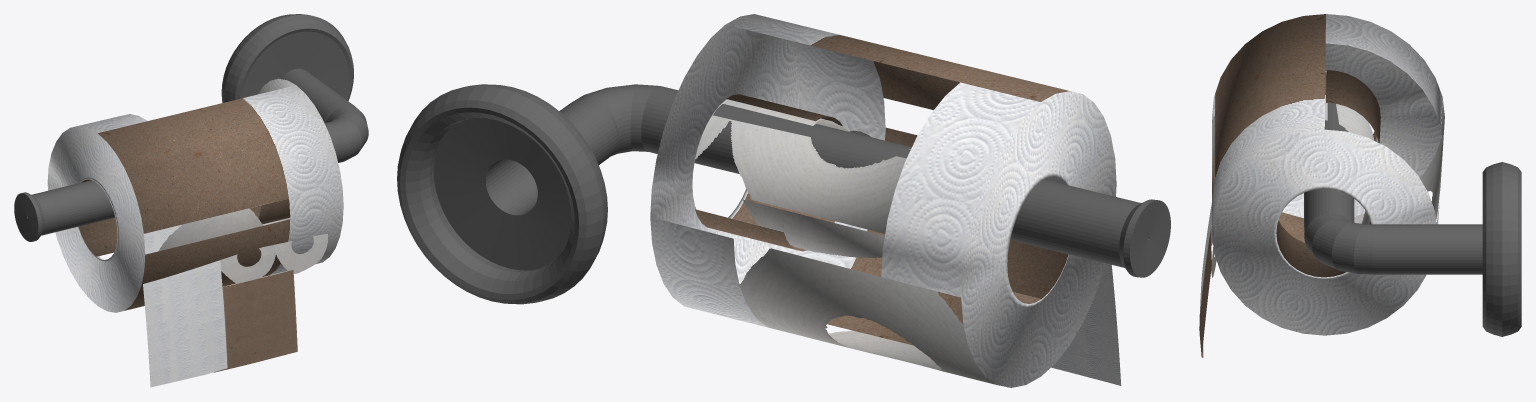
Rendered from Toilet Paper NEW.fbx.
The picture shows the model from 3 angles, left to right: view 1: azimuth 30°, elevation 25°; view 2: azimuth 150°, elevation 25°; view 3: azimuth 270°, elevation 25°; orthographic projection. The views are drawn at different scales.
Parts seen in each view (by area): view 1: Toilet Paper, Hanging Toilet Paper, ToiletRoll Holder; view 2: Toilet Paper, ToiletRoll Holder, Hanging Toilet Paper; view 3: Toilet Paper, ToiletRoll Holder, Hanging Toilet Paper.
Part boxes in pixels (box(x1,y1,x2,y2)): Toilet Paper: box(47, 78, 343, 312); Hanging Toilet Paper: box(143, 225, 327, 387); ToiletRoll Holder: box(14, 14, 368, 241); Toilet Paper: box(650, 14, 1116, 387); ToiletRoll Holder: box(397, 84, 1170, 304); Hanging Toilet Paper: box(849, 130, 1121, 385); Toilet Paper: box(1212, 14, 1444, 335); ToiletRoll Holder: box(1304, 72, 1521, 336); Hanging Toilet Paper: box(1199, 203, 1216, 357).
Bounding box in the file's own units: 43.22 × 22.47 × 25.36.
